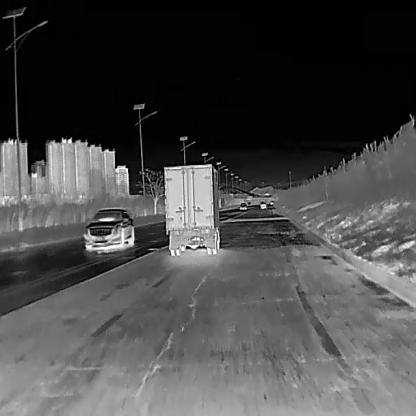car: (82, 206, 134, 251), (239, 202, 247, 210), (259, 200, 266, 208), (269, 199, 274, 204), (246, 200, 251, 204)
truck: (162, 163, 224, 255)
